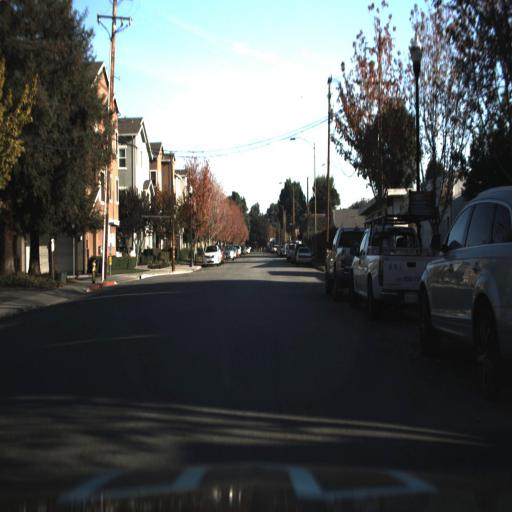car: (413, 186, 512, 400), (349, 221, 440, 315), (346, 213, 424, 309), (322, 222, 368, 300), (322, 223, 355, 297), (201, 242, 224, 270), (293, 244, 314, 269)
